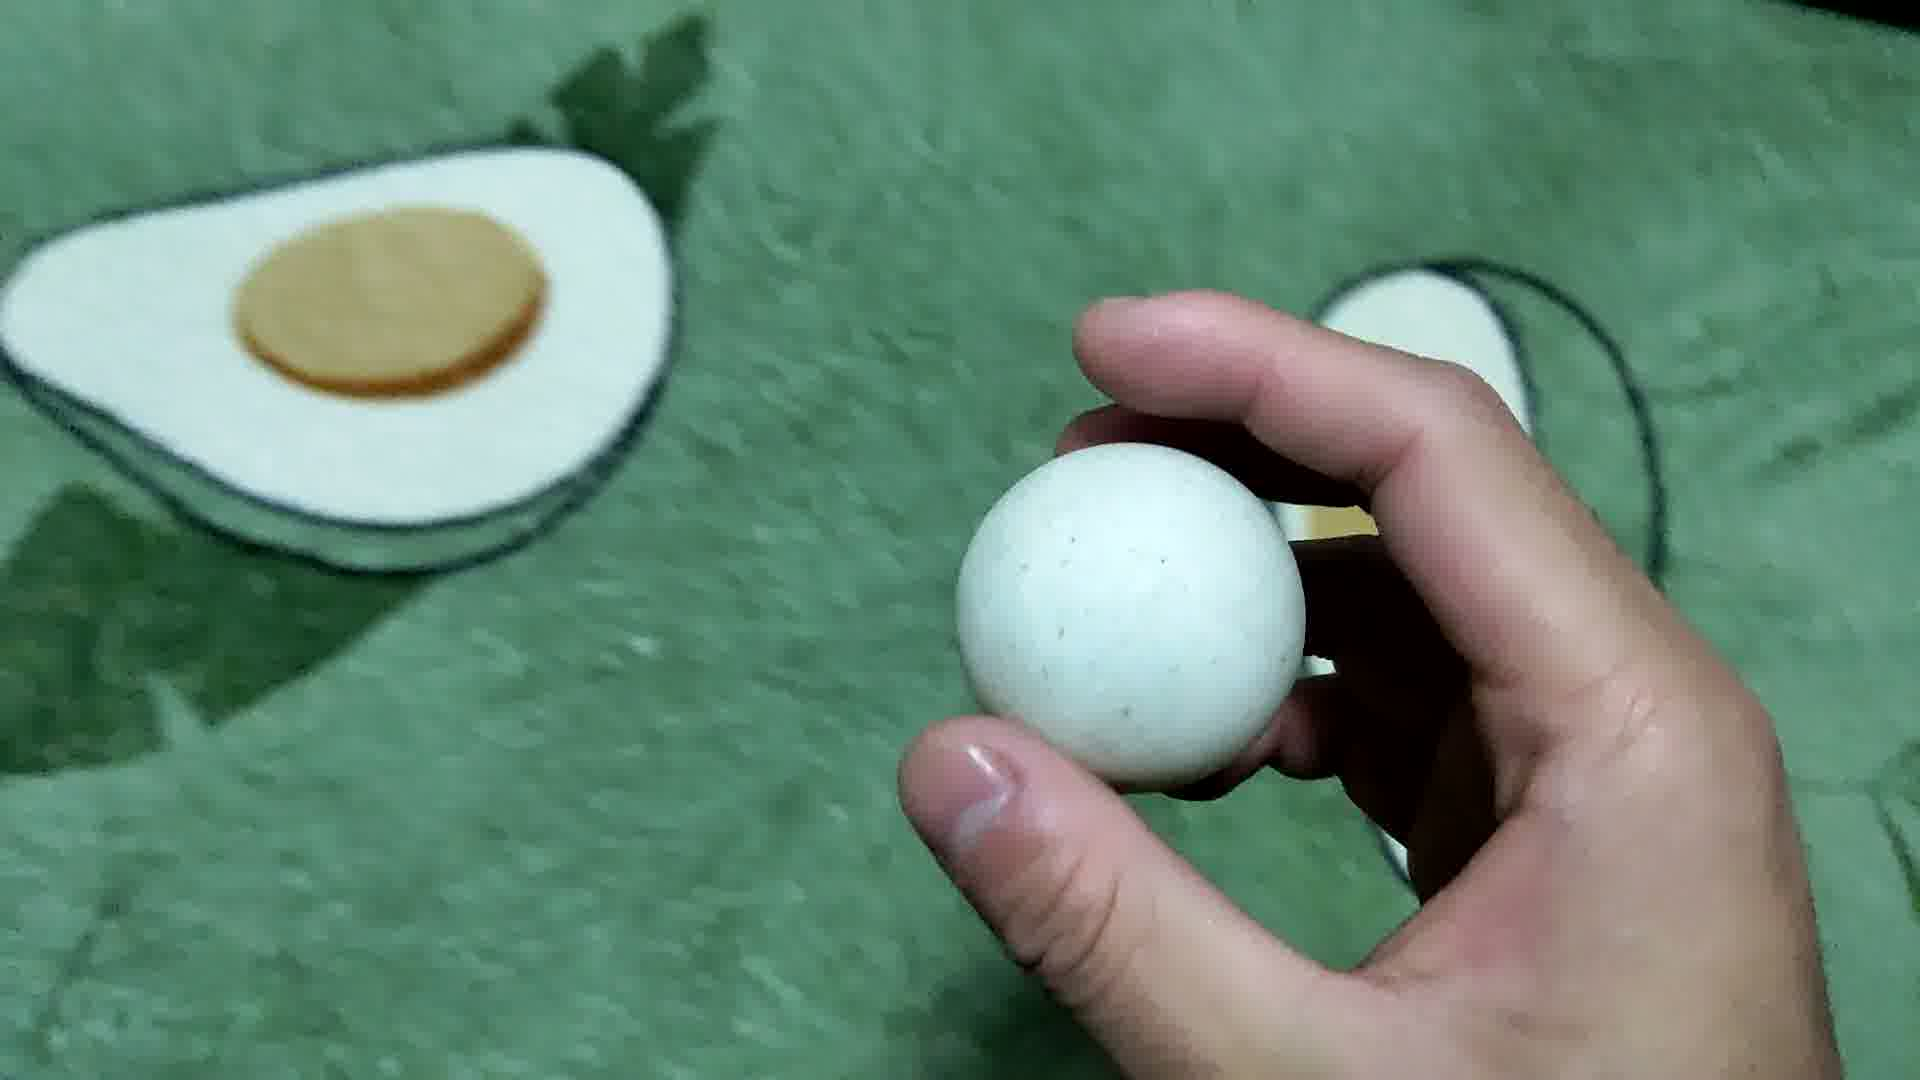Ball: (953, 436, 1309, 785)
